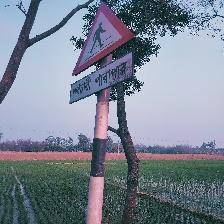Pedestrian-crossing: (69, 0, 136, 105)
